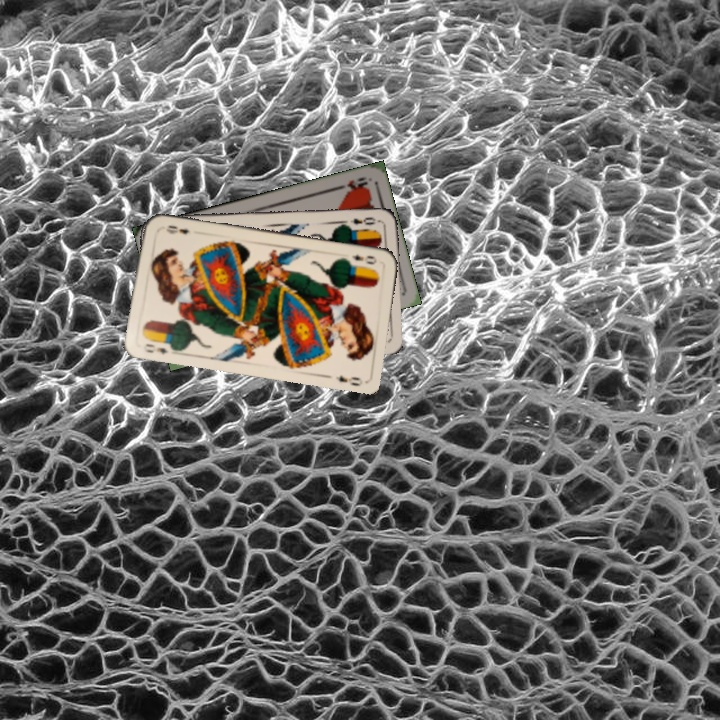EO: (141, 339, 171, 357), (348, 250, 379, 267), (346, 213, 382, 227)
HO: (331, 173, 370, 194)
